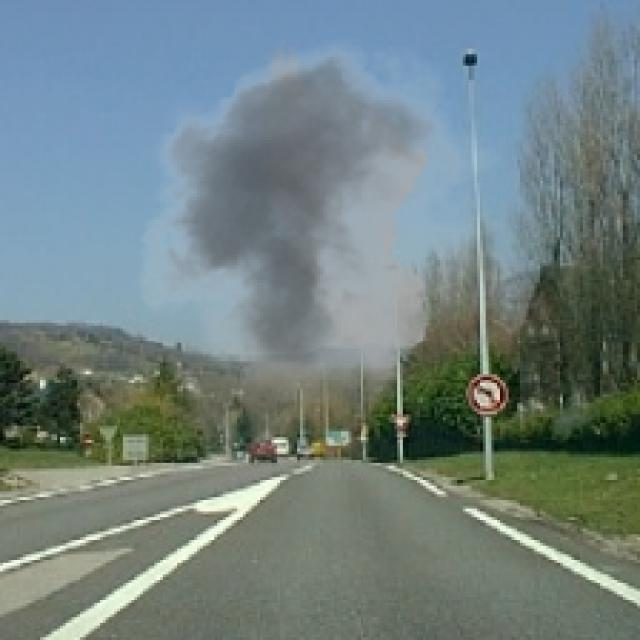smoke: (120, 26, 506, 406)
